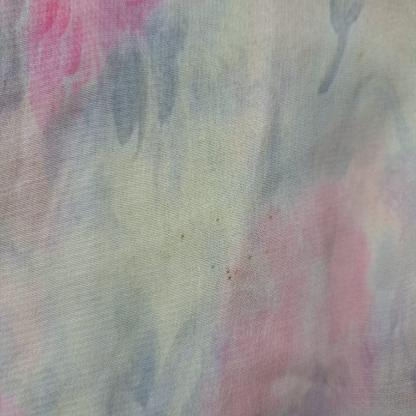spot: (227, 267, 243, 281), (357, 48, 365, 63), (264, 246, 272, 257), (247, 252, 256, 260), (267, 212, 275, 220), (180, 233, 188, 240), (212, 266, 219, 272), (216, 217, 219, 222)
